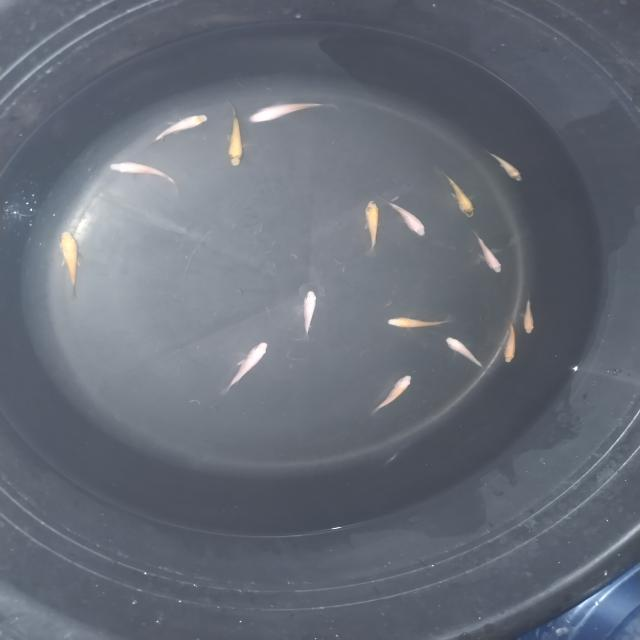nila: (219, 340, 270, 396), (434, 168, 480, 222), (382, 194, 428, 242), (150, 111, 210, 146), (368, 373, 414, 418), (440, 334, 491, 374), (107, 162, 182, 189), (245, 102, 332, 124), (58, 228, 84, 300), (480, 149, 528, 184), (472, 228, 504, 278), (225, 104, 248, 170), (498, 315, 522, 369), (362, 196, 382, 256), (300, 290, 318, 341), (387, 316, 462, 328), (521, 292, 536, 339)
